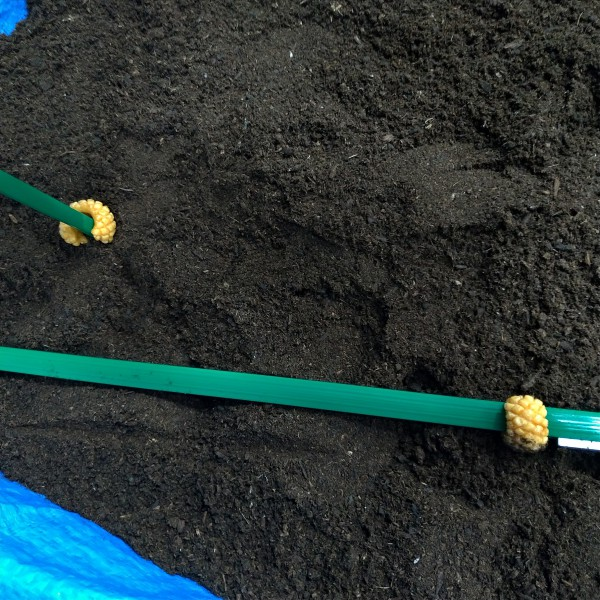eggs: (490, 392, 556, 456), (54, 199, 122, 251)
